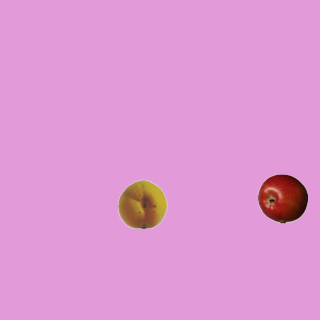Apple Braeburn: (257, 173, 307, 223)
Peach 2: (117, 178, 167, 228)
